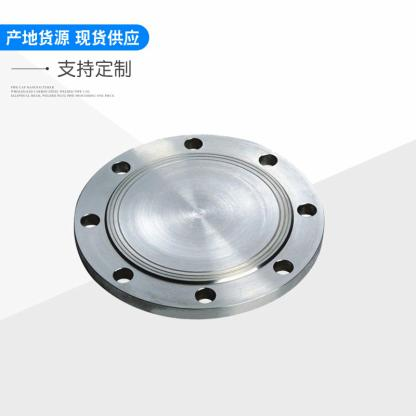FOD: (70, 129, 330, 322)
